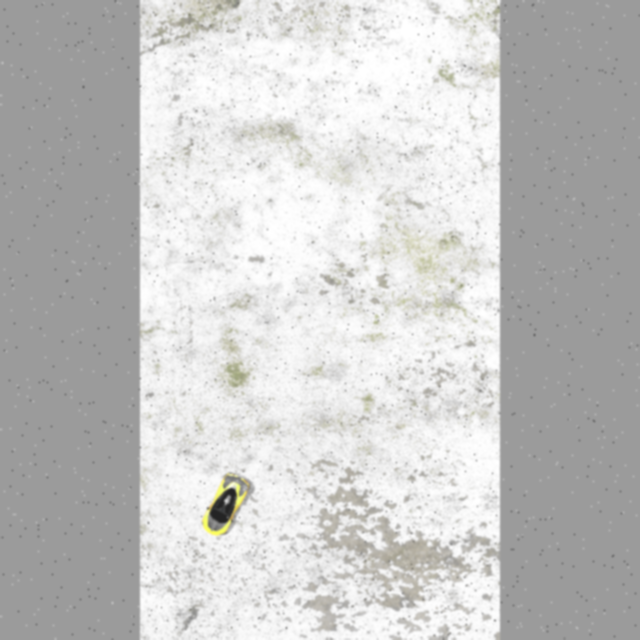car: (193, 467, 253, 545)
